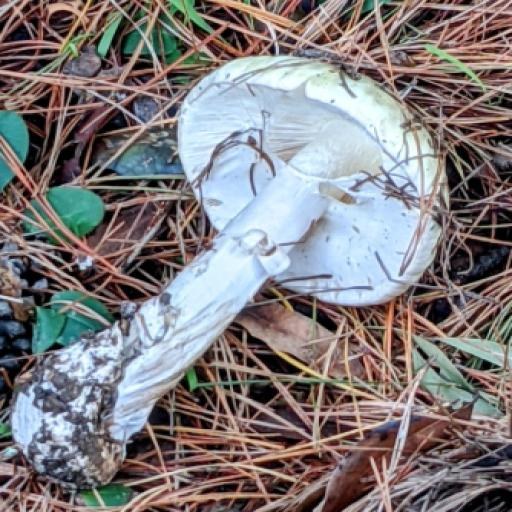Death Cap: (0, 9, 488, 512)
